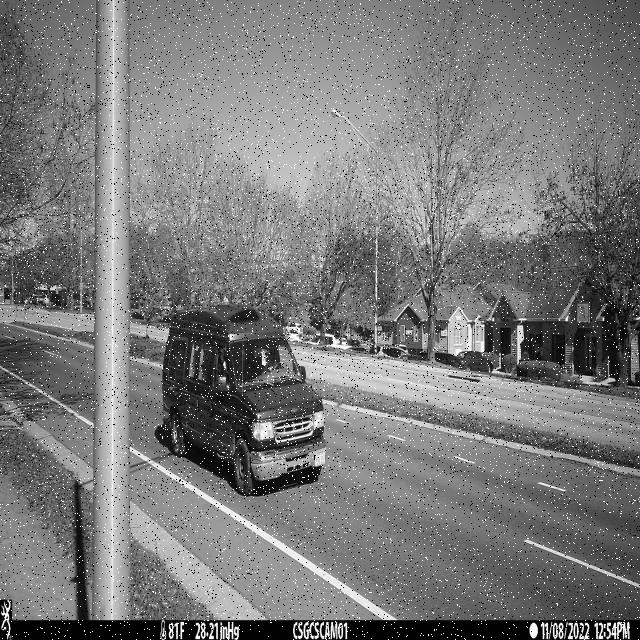Van: (162, 305, 326, 497)
